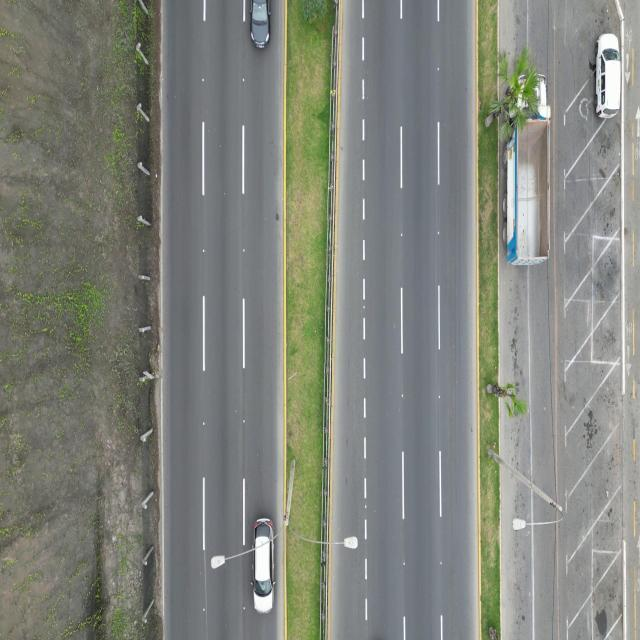Car: (582, 13, 630, 141), (242, 506, 282, 620), (243, 0, 281, 66)
